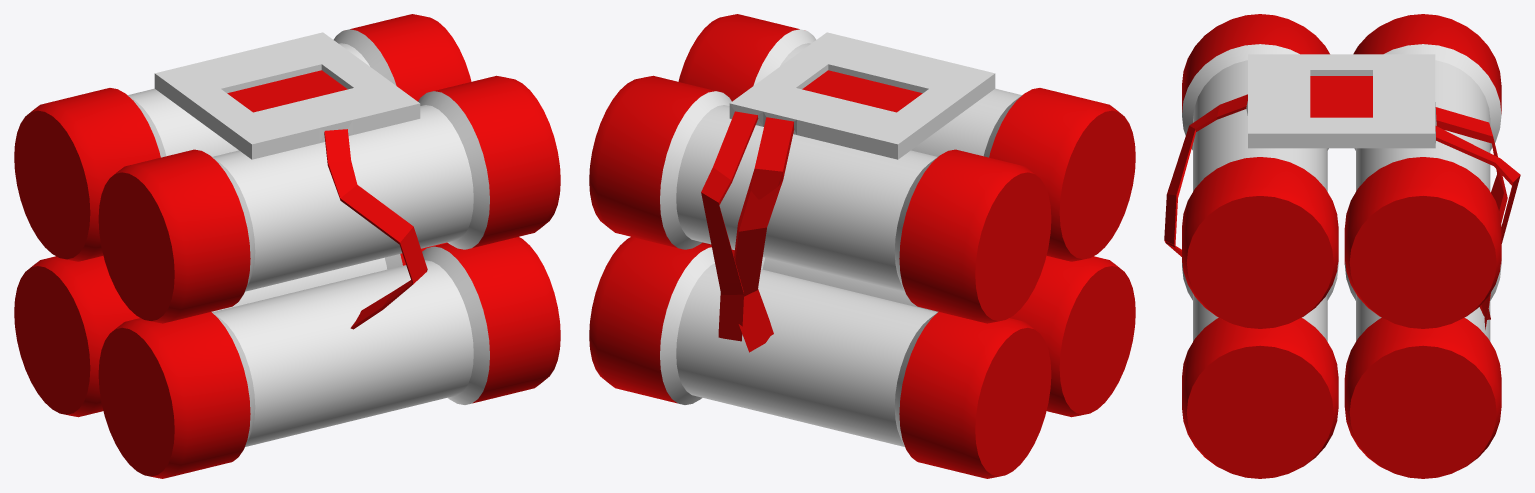
File: bomb.fbx
3 renders of one model, left to right at view 1: azimuth 30°, elevation 25°; view 2: azimuth 150°, elevation 25°; view 3: azimuth 270°, elevation 25°, orthographic. The views are drawn at different scales.
Visible parts, largest first — view 1: bomb; view 2: bomb; view 3: bomb.
Boxes of the visible parts, box(x1,y1,x2,y2) form: bomb: box(14, 14, 560, 478); bomb: box(589, 14, 1135, 478); bomb: box(1164, 14, 1520, 478).
Bounding box in the file's own units: 134 × 103 × 111.
